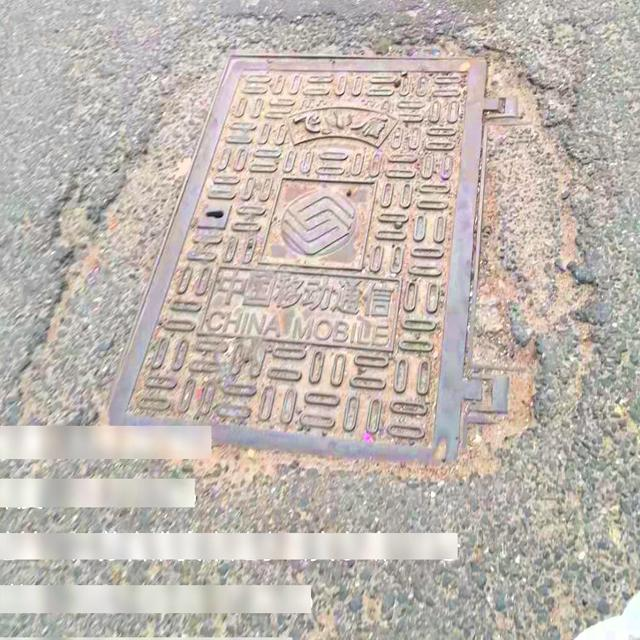good: (101, 51, 520, 460)
